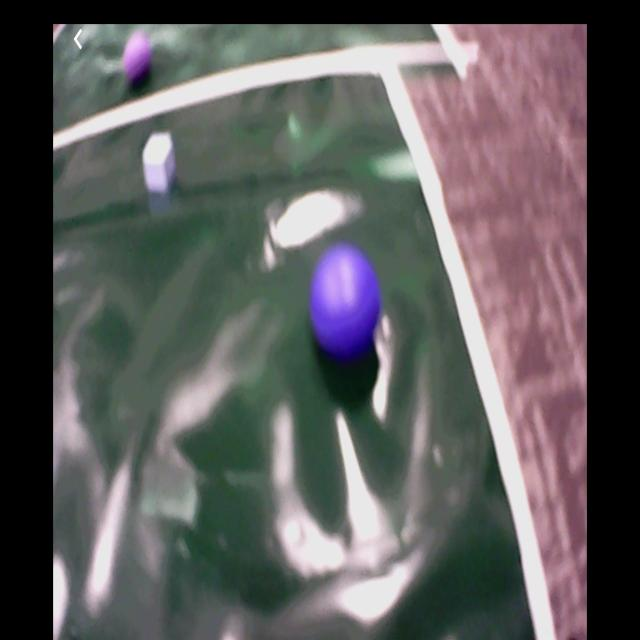ball: (308, 246, 381, 356), (122, 30, 151, 86)
